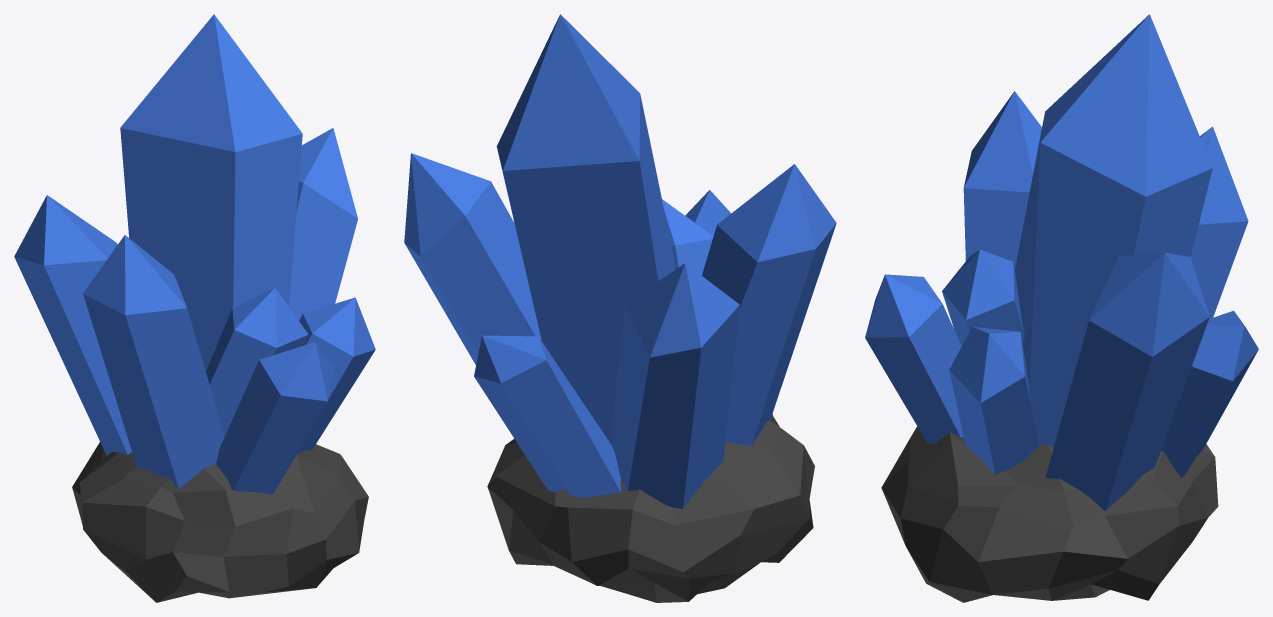
Rendered from Crystals.fbx.
The picture shows the model from 3 angles, left to right: view 1: azimuth 30°, elevation 25°; view 2: azimuth 150°, elevation 25°; view 3: azimuth 270°, elevation 25°; orthographic projection. The views are drawn at different scales.
Visible parts, largest first — view 1: Crystals; view 2: Crystals; view 3: Crystals.
Boxes of the visible parts, bbox=[...] form: Crystals: bbox=[14, 14, 375, 602]; Crystals: bbox=[404, 14, 836, 602]; Crystals: bbox=[865, 14, 1258, 602].
Size of the model in its own units: 0.5033 by 0.7983 by 0.4793.
